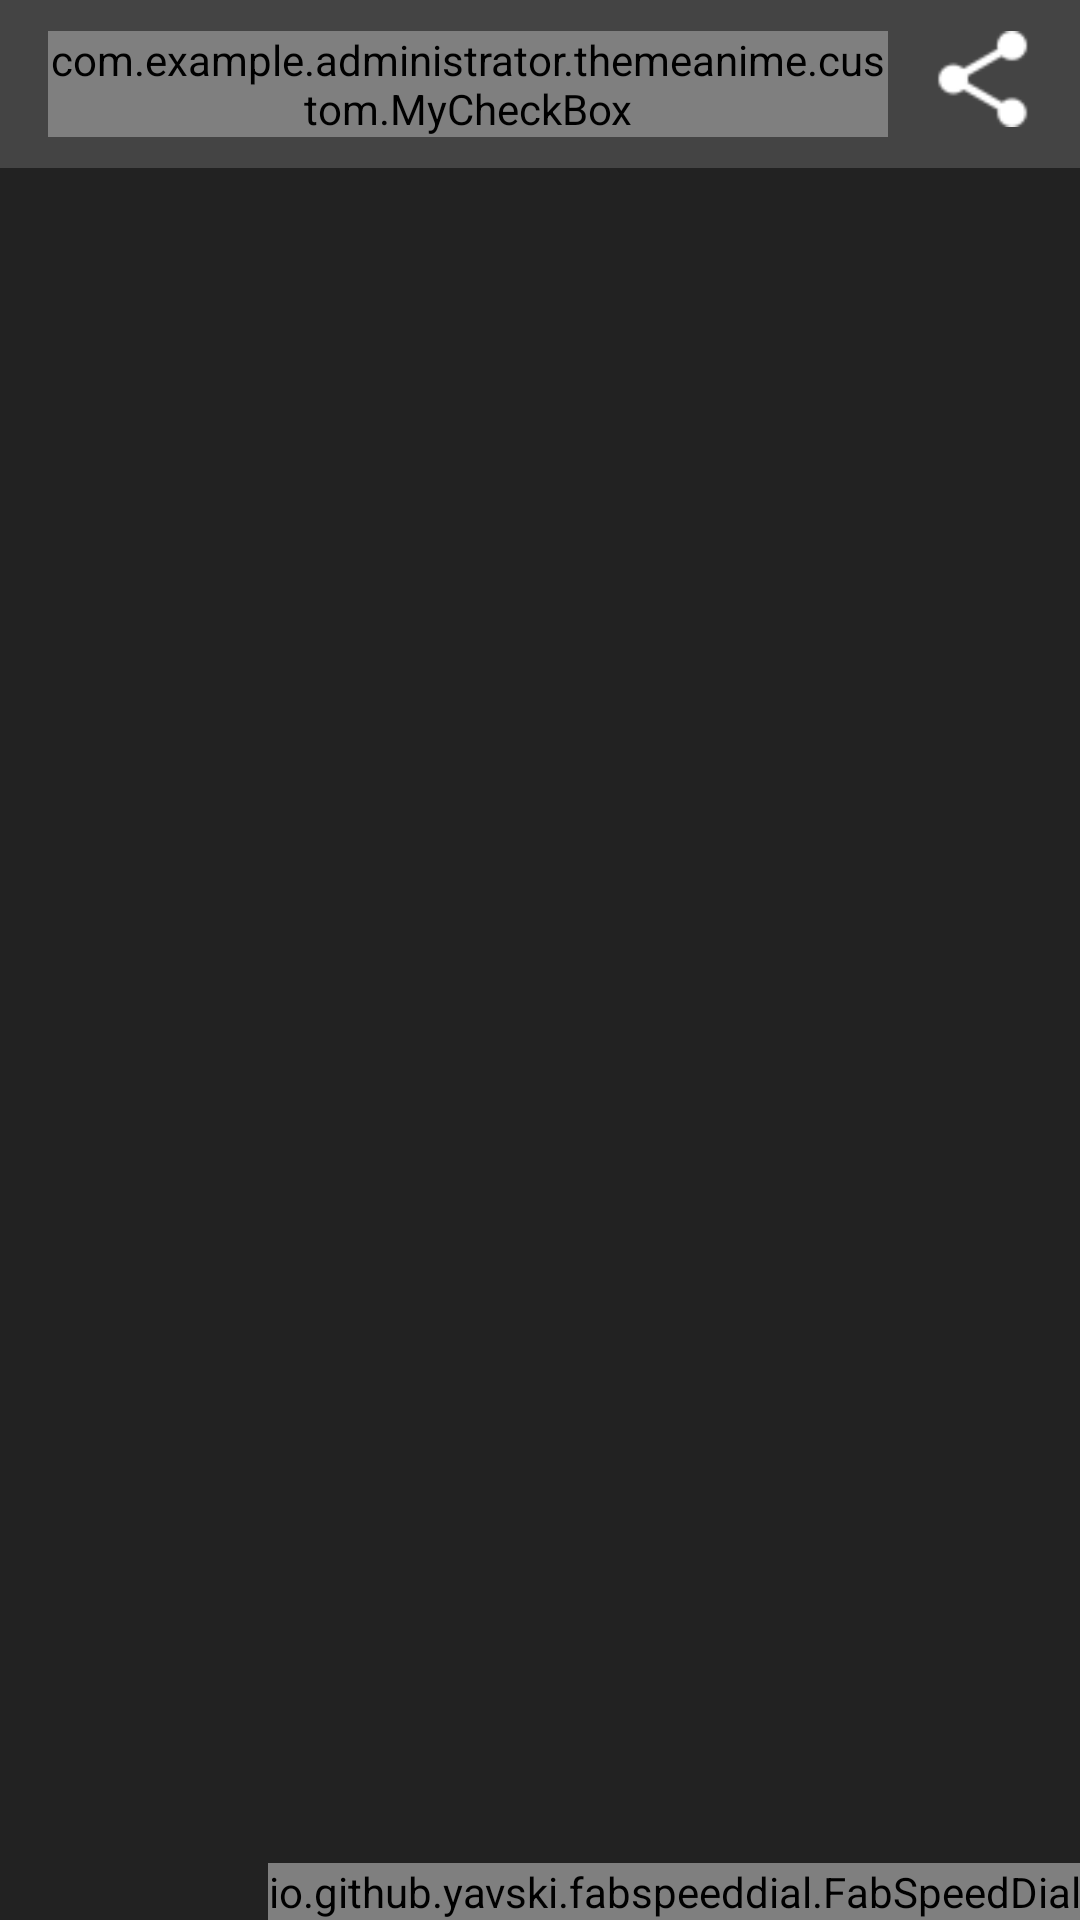

Where icons sit on this 1080*1920 app screen, as (x1, y1, x2, y2):
share: (938, 31, 1028, 127)
